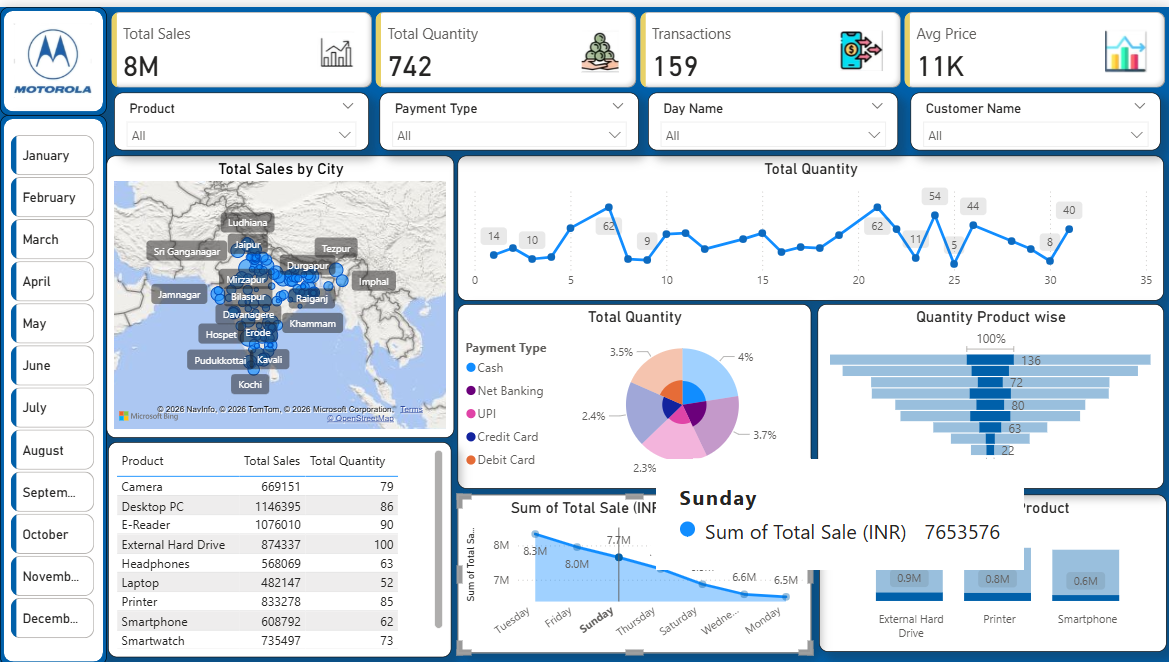

What the dashboard file says about the page in this screenshot:
{"tool":"powerbi","page":{"name":"Page 1","canvas":[1280,720],"ordinal":0},"visuals":[{"type":"shape","box":[0,0,116.7,118.3],"z":0},{"type":"image","box":[10,11.7,95,95],"z":1000},{"type":"shape","box":[0,118.3,116.7,601.7],"z":1001},{"type":"advancedSlicerVisual","fields":{"Values":["Sales_Data.Sales Date.Variation.Date Hierarchy.Month"]},"box":[6.7,135,101.7,570],"z":1002},{"type":"cardVisual","fields":{"Data":["Sales_Data.Total Sales","Sales_Data.Total Quantity","Sales_Data.Transactions","Sales_Data.Avg Price"]},"box":[116.7,0,1163.3,93.3],"z":1003},{"type":"map","fields":{"Category":["Sales_Data.City"],"Size":["Sales_Data.Total Sales"]},"box":[116.7,161.7,380,308.3],"z":1004},{"type":"lineChart","title":"Total Quantity","fields":{"Category":["Sales_Data.Sales Date.Variation.Date Hierarchy.Month","Sales_Data.Sales Date.Variation.Date Hierarchy.Day"],"Y":["Sales_Data.Total Quantity"]},"box":[500,161.7,771.7,158.3],"z":1005},{"type":"clusteredColumnChart","title":"Total Sales by Product","fields":{"Y":["Sum(Sales_Data.Total Sale (INR))"],"Category":["Sales_Data.Product"]},"box":[895,533.3,380,171.7],"z":1006},{"type":"pieChart","title":"Total Quantity","fields":{"Category":["Sales_Data.Payment Type"],"Y":["Sales_Data.Transactions"]},"box":[500,325,386.7,201.7],"z":1007},{"type":"funnel","title":"Quantity Product wise","fields":{"Category":["Sales_Data.Quantity"],"Y":["Sum(Sales_Data.Quantity)"]},"box":[893.3,325,378.3,201.7],"z":1008},{"type":"areaChart","fields":{"Category":["Sales_Data.Day Name"],"Y":["Sum(Sales_Data.Total Sale (INR))"]},"box":[500,533.3,386.7,173.3],"z":1009},{"type":"tableEx","title":"Total Quantity","fields":{"Values":["Sales_Data.Product","Sales_Data.Total Sales","Sales_Data.Total Quantity"]},"box":[118.3,475,375,235],"z":1010},{"type":"slicer","fields":{"Values":["Sales_Data.Product"]},"box":[125,93.3,278.3,63.3],"z":1011},{"type":"slicer","fields":{"Values":["Sales_Data.Payment Type"]},"box":[415,93.3,283.3,63.3],"z":1012},{"type":"slicer","fields":{"Values":["Sales_Data.Day Name"]},"box":[708.3,93.3,273.3,63.3],"z":1013},{"type":"slicer","fields":{"Values":["Sales_Data.Customer Name"]},"box":[995,93.3,273.3,63.3],"z":1014}]}

Visuals, with their boxes in screenshot pixels (x1, y1, x2, y2), scaled from the page's 1280x720 canvas onto the 1169x662 screenshot:
shape: {"x1": 0, "y1": 0, "x2": 107, "y2": 109}
image: {"x1": 9, "y1": 11, "x2": 96, "y2": 98}
shape: {"x1": 0, "y1": 109, "x2": 107, "y2": 661}
advancedSlicerVisual - Sales_Data.Sales Date.Variation.Date Hierarchy.Month: {"x1": 6, "y1": 124, "x2": 99, "y2": 648}
cardVisual - Sales_Data.Total Sales x Sales_Data.Total Quantity: {"x1": 107, "y1": 0, "x2": 1168, "y2": 86}
map - Sales_Data.City x Sales_Data.Total Sales: {"x1": 107, "y1": 149, "x2": 454, "y2": 432}
"Total Quantity" lineChart: {"x1": 457, "y1": 149, "x2": 1161, "y2": 294}
"Total Sales by Product" clusteredColumnChart: {"x1": 817, "y1": 490, "x2": 1164, "y2": 648}
"Total Quantity" pieChart: {"x1": 457, "y1": 299, "x2": 810, "y2": 484}
"Quantity Product wise" funnel: {"x1": 816, "y1": 299, "x2": 1161, "y2": 484}
areaChart - Sales_Data.Day Name x Sum(Sales_Data.Total Sale (INR)): {"x1": 457, "y1": 490, "x2": 810, "y2": 650}
"Total Quantity" tableEx: {"x1": 108, "y1": 437, "x2": 451, "y2": 653}
slicer - Sales_Data.Product: {"x1": 114, "y1": 86, "x2": 368, "y2": 144}
slicer - Sales_Data.Payment Type: {"x1": 379, "y1": 86, "x2": 638, "y2": 144}
slicer - Sales_Data.Day Name: {"x1": 647, "y1": 86, "x2": 896, "y2": 144}
slicer - Sales_Data.Customer Name: {"x1": 909, "y1": 86, "x2": 1158, "y2": 144}
